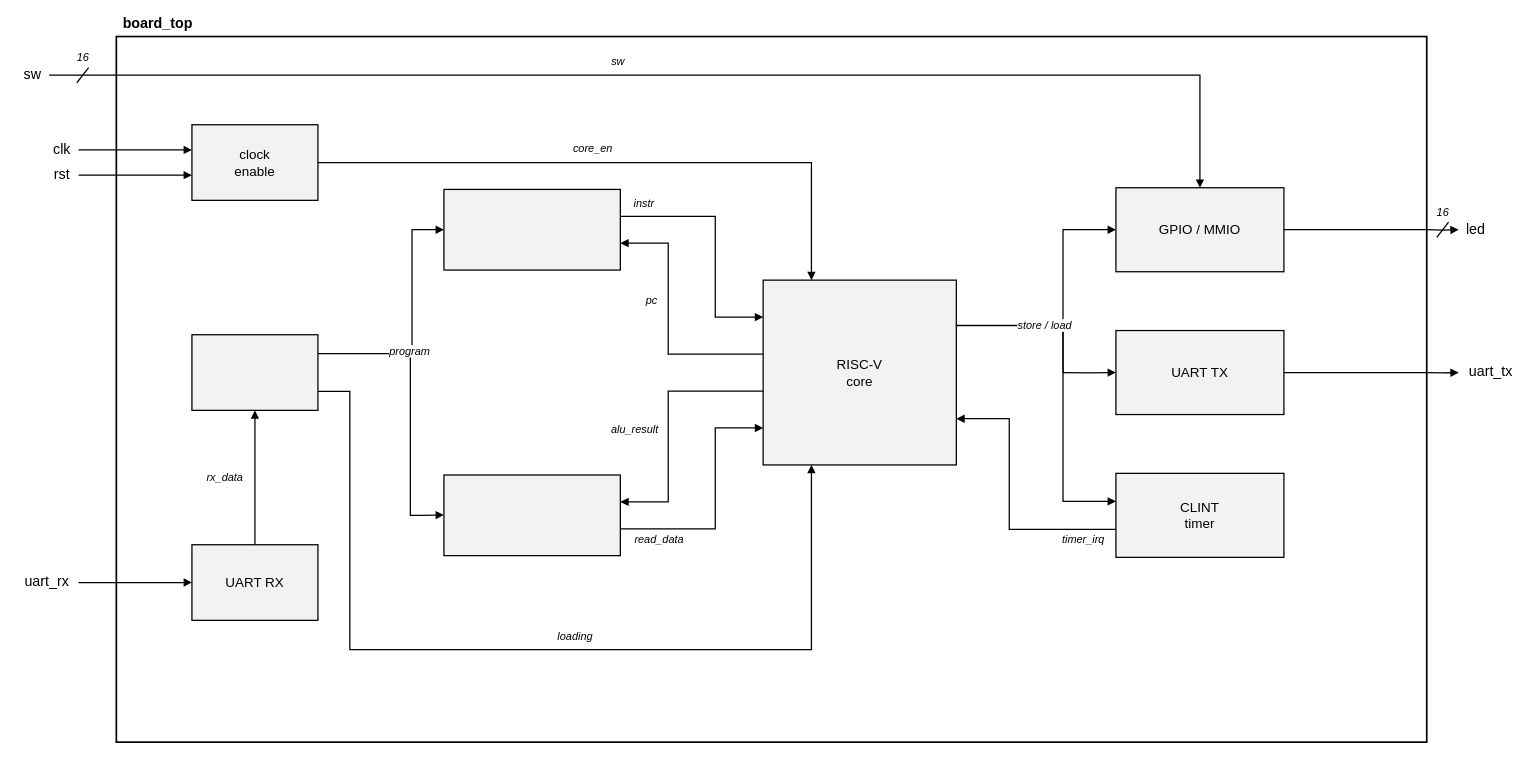
The diagram is 1536 pixels wide and 757 high, and some of its shapes have lost their labels. The shapes that lost their labels are listed below. From the top down, each one's centre as x and y in pixels, then its label:
At point (532, 229): "instruction memory".
At point (254, 372): "bootloader".
At point (532, 515): "data memory".
